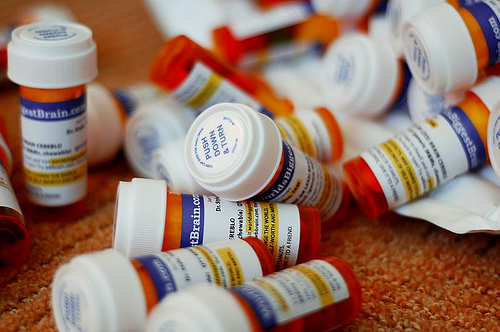pill bottle: (184, 100, 351, 232), (341, 85, 494, 220), (111, 176, 324, 271), (5, 20, 99, 213)
